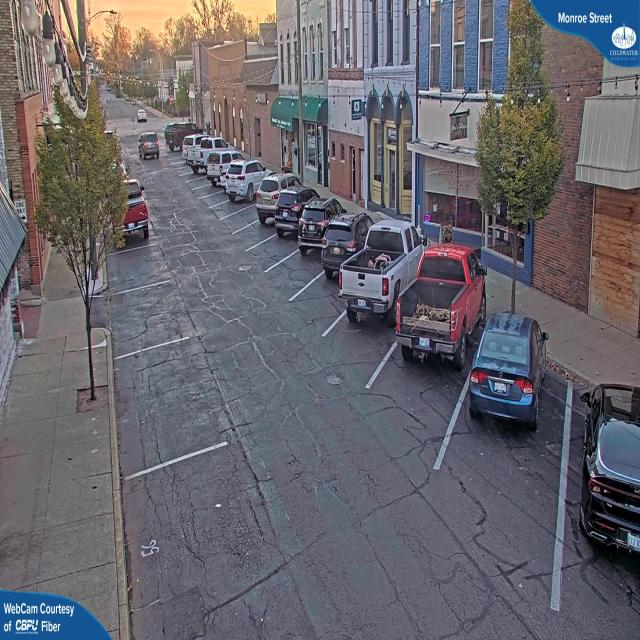available: (126, 415, 259, 636), (119, 330, 213, 453), (111, 268, 187, 354), (104, 218, 160, 289)
occupied: (573, 372, 640, 572), (468, 309, 548, 434), (338, 216, 428, 325), (400, 243, 460, 384), (107, 177, 154, 250), (273, 184, 317, 236), (321, 213, 355, 276), (224, 158, 272, 202), (298, 193, 329, 252), (255, 168, 280, 219), (202, 150, 225, 190), (190, 140, 220, 167), (164, 120, 186, 153), (179, 134, 199, 168)
